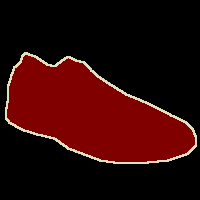shoe: (6, 52, 196, 163)
